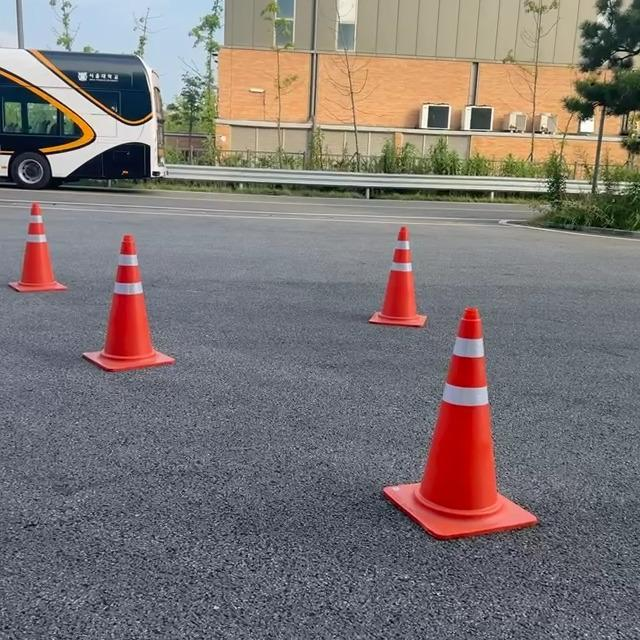fallen_object: (369, 252, 510, 547), (78, 202, 209, 437), (336, 201, 437, 355), (0, 180, 80, 303)
